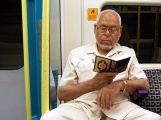male: (91, 12, 121, 55)
